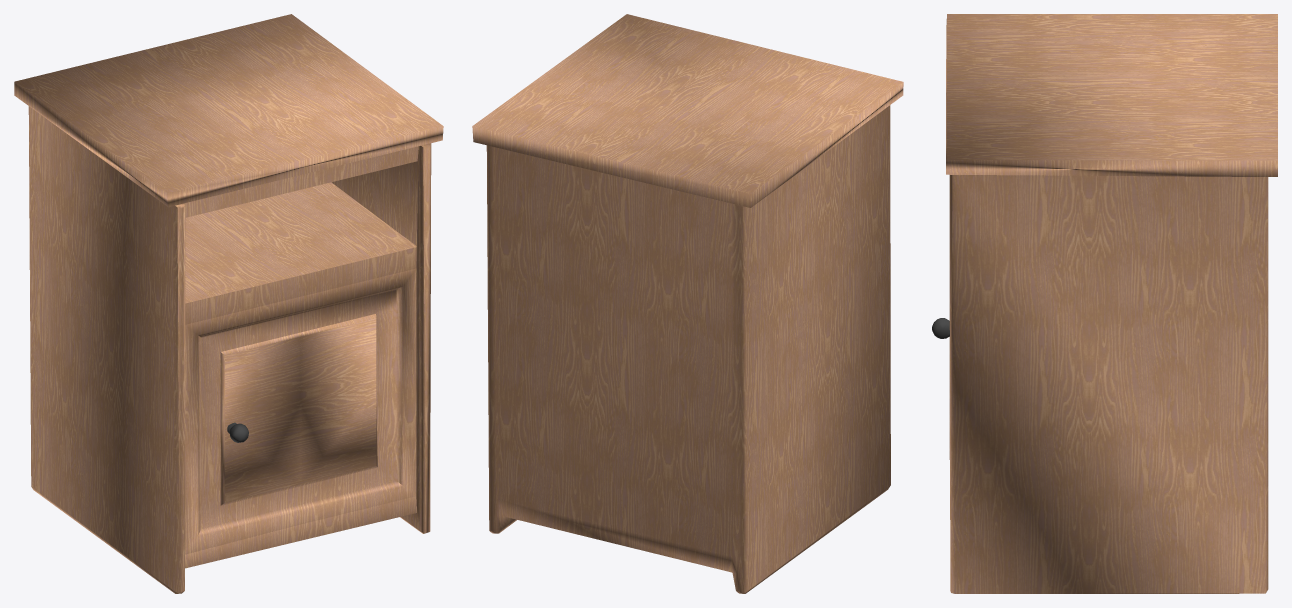
The model's file is bedside_table.dae.
The picture shows the model from 3 angles, left to right: view 1: azimuth 30°, elevation 25°; view 2: azimuth 150°, elevation 25°; view 3: azimuth 270°, elevation 25°; orthographic projection. The views are drawn at different scales.
Visible parts, largest first — view 1: Cube.234; view 2: Cube.234; view 3: Cube.234.
Boxes of the visible parts, x1,y1,x2,y2 form: Cube.234: (14,14,443,593); Cube.234: (472,14,903,593); Cube.234: (946,14,1277,593).
Bounding box in the file's own units: 0.4198 × 0.418 × 0.5887.
